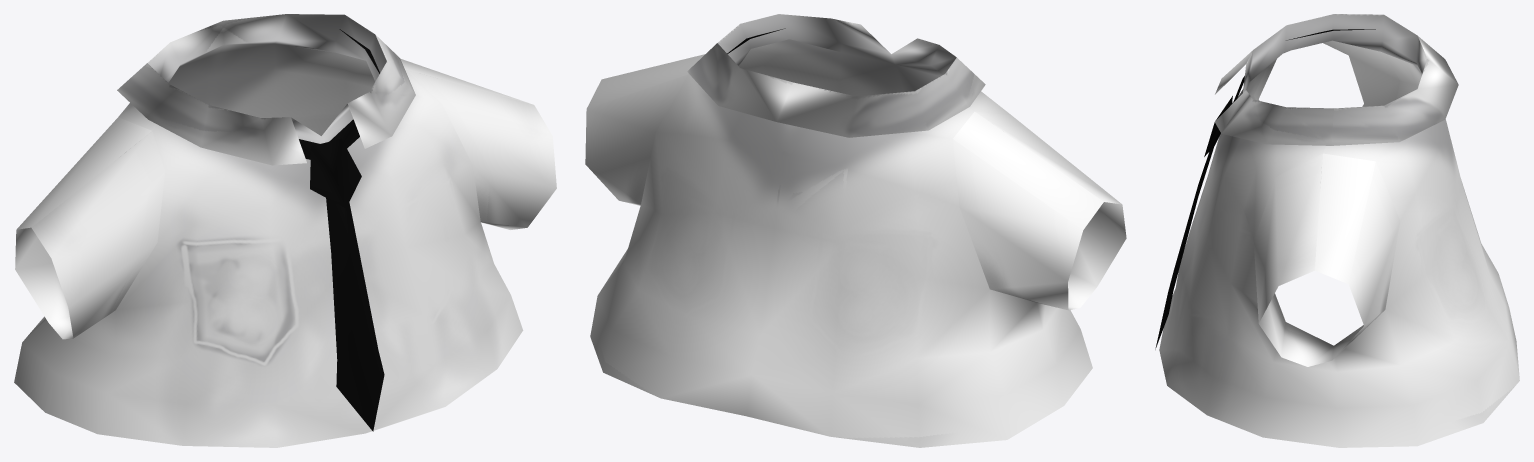
The model's file is Shirt_And_Tie.glb.
3 views of the same model, side by side, from view 1: azimuth 30°, elevation 25°; view 2: azimuth 150°, elevation 25°; view 3: azimuth 270°, elevation 25° (orthographic). The views are drawn at different scales.
Parts seen in each view (by area): view 1: Shirt_And_Tie; view 2: Shirt_And_Tie; view 3: Shirt_And_Tie.
Part boxes in pixels (x1,y1,x2,y2): Shirt_And_Tie: (14,14,556,447); Shirt_And_Tie: (585,14,1126,447); Shirt_And_Tie: (1155,14,1519,447).
Size of the model in its own units: 0.6125 by 0.3603 by 0.4081.
2 materials, 1 textured.
